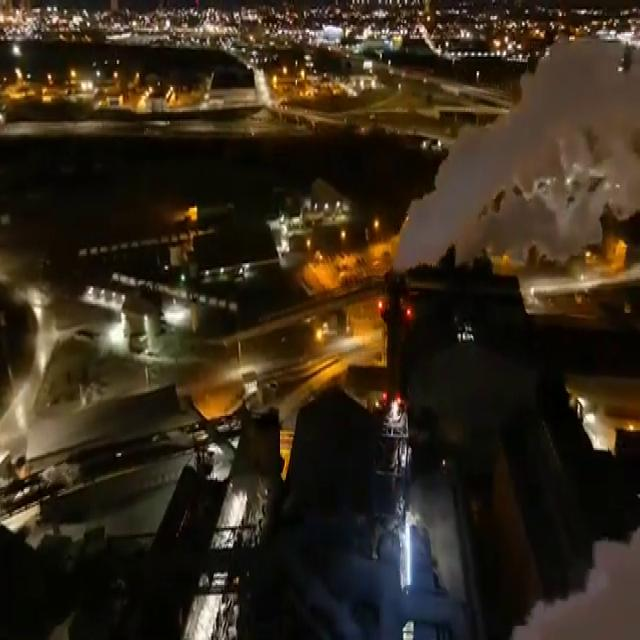smoke: (396, 34, 640, 277)
